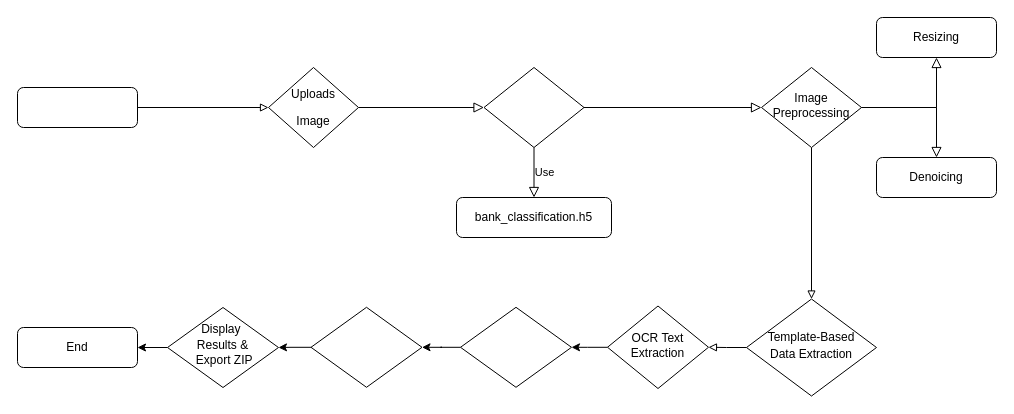
The diagram is 1014 pixels wide and 414 high, and some of its shapes have lost their labels. Here are the shapes that lost their labels. From the top down, the centre of each, then its label:
the point at 77,107: Start
the point at 533,107: Bank Classifying
the point at 366,346: Store in MongoDB
the point at 516,346: Data Validation
